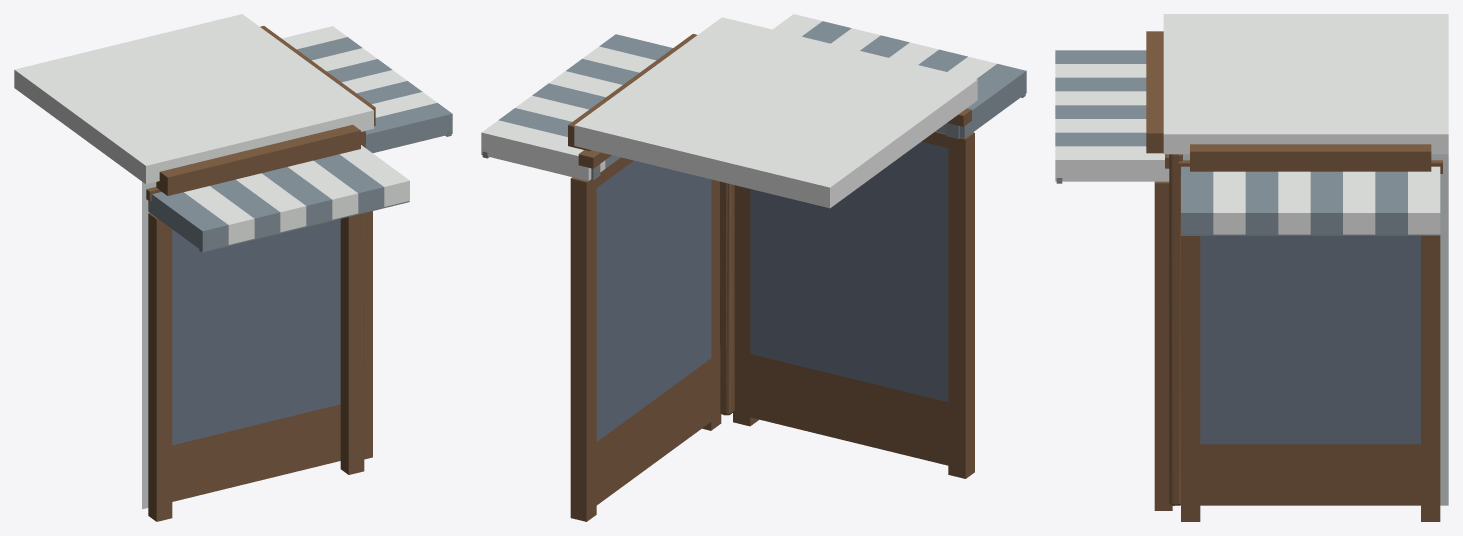
File: CornerShopfront90.glb
The picture shows the model from 3 angles, left to right: view 1: azimuth 30°, elevation 25°; view 2: azimuth 150°, elevation 25°; view 3: azimuth 270°, elevation 25°; orthographic projection. The views are drawn at different scales.
Parts seen in each view (by area): view 1: PBK_floor_band.048, PBK_glass.001, PBK_Continuous_Frame_Modern_Shopfront.003, PBK_glass.011_Frame_Base20.001, PBK_signboard.001, PBK_awning_stripe.009, PBK_awning_stripe.001, PBK_Modern_CornerShopfront90_Exterior_Surface.001, PBK_Continuous_Frame_Modern_Shopfront.004, PBK_awning_stripe.004, PBK_awning_stripe.006, PBK_awning_stripe.002 (+13 smaller); view 2: PBK_floor_band.048, PBK_glass.001, PBK_glass.003, PBK_Continuous_Frame_Modern_Shopfront.003, PBK_glass.011_Frame_Base20.001, PBK_Continuous_Frame_Modern_Shopfront.004, PBK_glass.011_Frame_Base20.002, PBK_awning_stripe.016, PBK_ShopCornerPost90.021, PBK_awning_stripe.001, PBK_awning_stripe.015, PBK_awning_stripe.010 (+13 smaller); view 3: PBK_glass.003, PBK_floor_band.048, PBK_glass.011_Frame_Base20.002, PBK_Continuous_Frame_Modern_Shopfront.004, PBK_signboard.002, PBK_Continuous_Frame_Modern_Shopfront.003, PBK_ShopCornerPost90.021, PBK_awning_stripe.008, PBK_Modern_CornerShopfront90_Exterior_Surface.001, PBK_signboard.001, PBK_awning_stripe.011, PBK_awning_stripe.016 (+14 smaller).
Part boxes in pixels (x1,y1,x2,y2): PBK_floor_band.048: (14, 14, 373, 184); PBK_glass.001: (172, 219, 340, 445); PBK_Continuous_Frame_Modern_Shopfront.003: (148, 213, 364, 521); PBK_glass.011_Frame_Base20.001: (172, 404, 340, 501); PBK_signboard.001: (156, 124, 360, 195); PBK_awning_stripe.009: (365, 103, 452, 152); PBK_awning_stripe.001: (148, 192, 228, 251); PBK_Modern_CornerShopfront90_Exterior_Surface.001: (142, 182, 156, 509); PBK_Continuous_Frame_Modern_Shopfront.004: (364, 211, 372, 459); PBK_awning_stripe.004: (236, 173, 306, 232); PBK_awning_stripe.006: (288, 160, 358, 219); PBK_awning_stripe.002: (184, 186, 254, 244); PBK_floor_band.048: (574, 17, 977, 208); PBK_glass.001: (750, 141, 948, 401); PBK_glass.003: (596, 160, 711, 441); PBK_Continuous_Frame_Modern_Shopfront.003: (733, 131, 974, 478); PBK_glass.011_Frame_Base20.001: (750, 354, 948, 465); PBK_Continuous_Frame_Modern_Shopfront.004: (570, 157, 721, 521); PBK_glass.011_Frame_Base20.002: (596, 358, 711, 505); PBK_awning_stripe.016: (481, 120, 605, 180); PBK_ShopCornerPost90.021: (720, 181, 734, 415); PBK_awning_stripe.001: (935, 63, 1026, 138); PBK_awning_stripe.015: (498, 108, 620, 168); PBK_awning_stripe.010: (582, 46, 655, 72); PBK_glass.003: (1200, 236, 1420, 444); PBK_floor_band.048: (1163, 14, 1448, 154); PBK_glass.011_Frame_Base20.002: (1200, 444, 1420, 505); PBK_Continuous_Frame_Modern_Shopfront.004: (1181, 236, 1440, 521); PBK_signboard.002: (1190, 144, 1431, 171); PBK_Continuous_Frame_Modern_Shopfront.003: (1154, 181, 1172, 510); PBK_ShopCornerPost90.021: (1169, 154, 1182, 505); PBK_awning_stripe.008: (1055, 146, 1169, 181); PBK_Modern_CornerShopfront90_Exterior_Surface.001: (1180, 154, 1448, 505); PBK_signboard.001: (1146, 31, 1163, 153); PBK_awning_stripe.011: (1245, 171, 1278, 234); PBK_awning_stripe.016: (1408, 166, 1440, 234).
Bounding box in the file's own units: 2.85 × 3.07 × 2.85.
